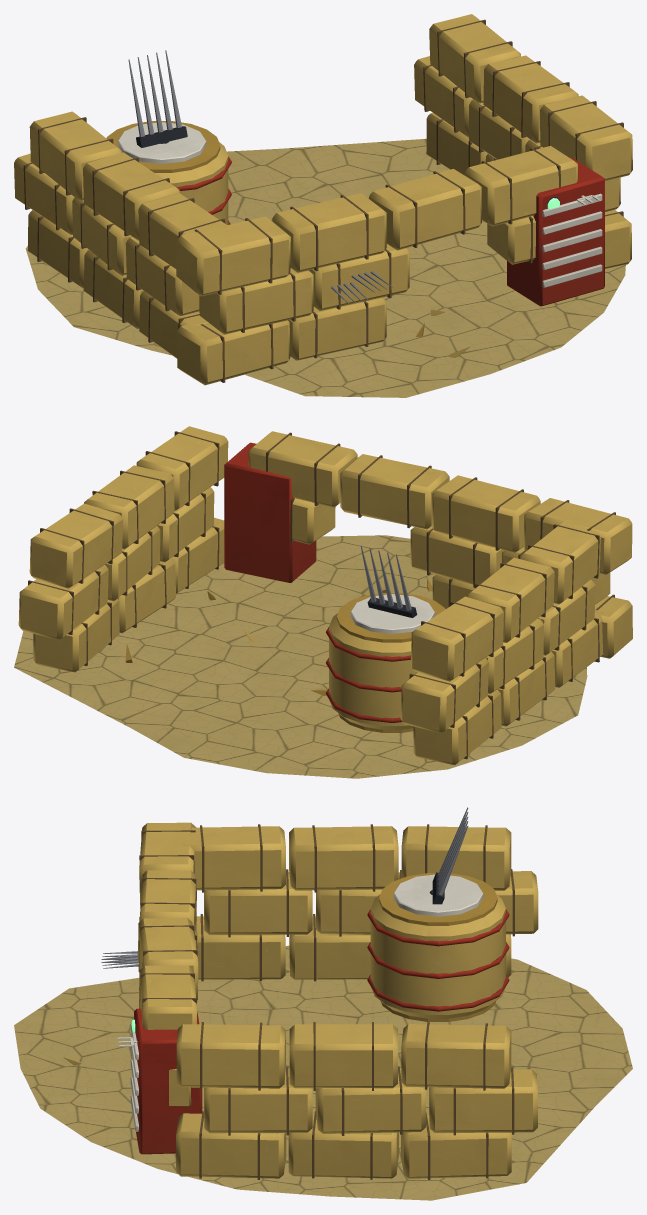
The model's file is rakehand_bale_fort.glb.
The picture shows the model from 3 angles, top to bottom: view 1: azimuth 30°, elevation 25°; view 2: azimuth 150°, elevation 25°; view 3: azimuth 270°, elevation 25°; orthographic projection. The views are drawn at different scales.
Visible parts, largest first — view 1: rakehand_bale_fort.001; view 2: rakehand_bale_fort.001; view 3: rakehand_bale_fort.001.
Part boxes in pixels (x1,y1,x2,y2): rakehand_bale_fort.001: (14,14,632,397); rakehand_bale_fort.001: (14,426,632,778); rakehand_bale_fort.001: (14,807,632,1200).
Size of what is drawn, in the model's own units: 6.91 by 2.41 by 6.87.
11 materials, 10 textured.
